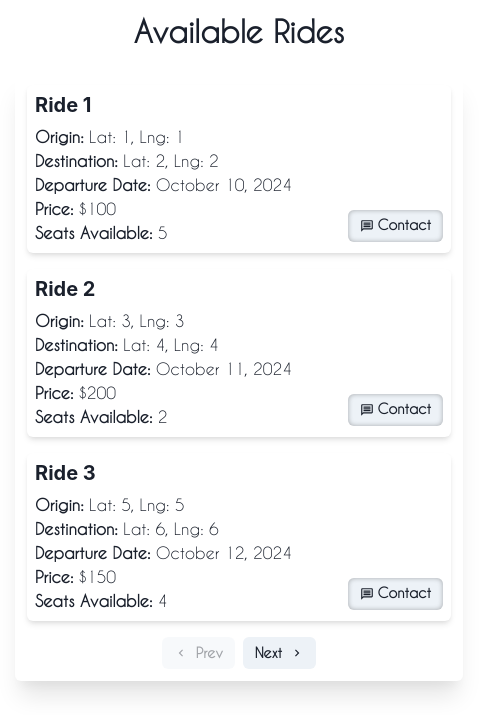
it: PostList Component › handles getAllRides and pagination correctly
Expected: the link "Ride 1" is shown, [35,93,91,117]
Expected: the link "Ride 2" is shown, [35,277,95,301]
Click the button with aria-label "next page".
click(279, 653)  # box [243,637,316,669]
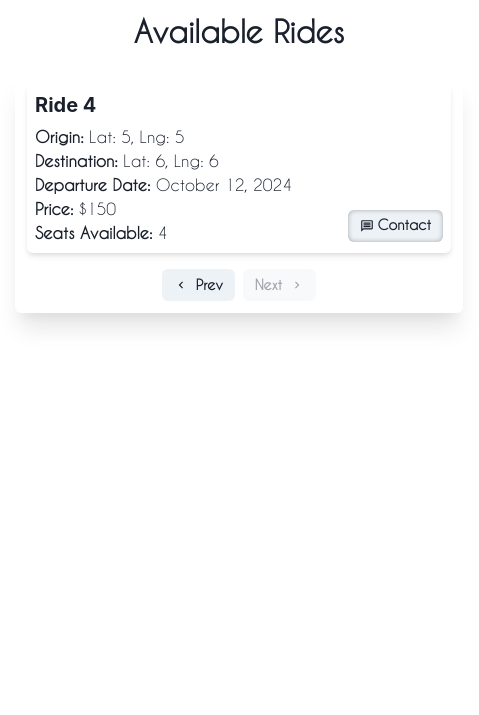
Now the link "Ride 1" is gone
Now the link "Ride 3" is gone
Now the link "Ride 4" is shown, box [35,93,96,117]
